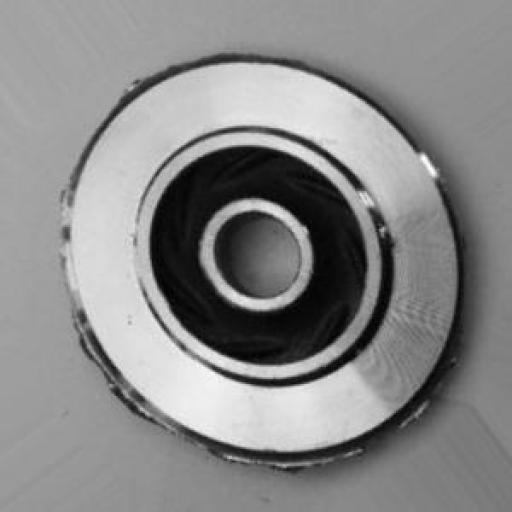defect: (28, 38, 486, 478)
